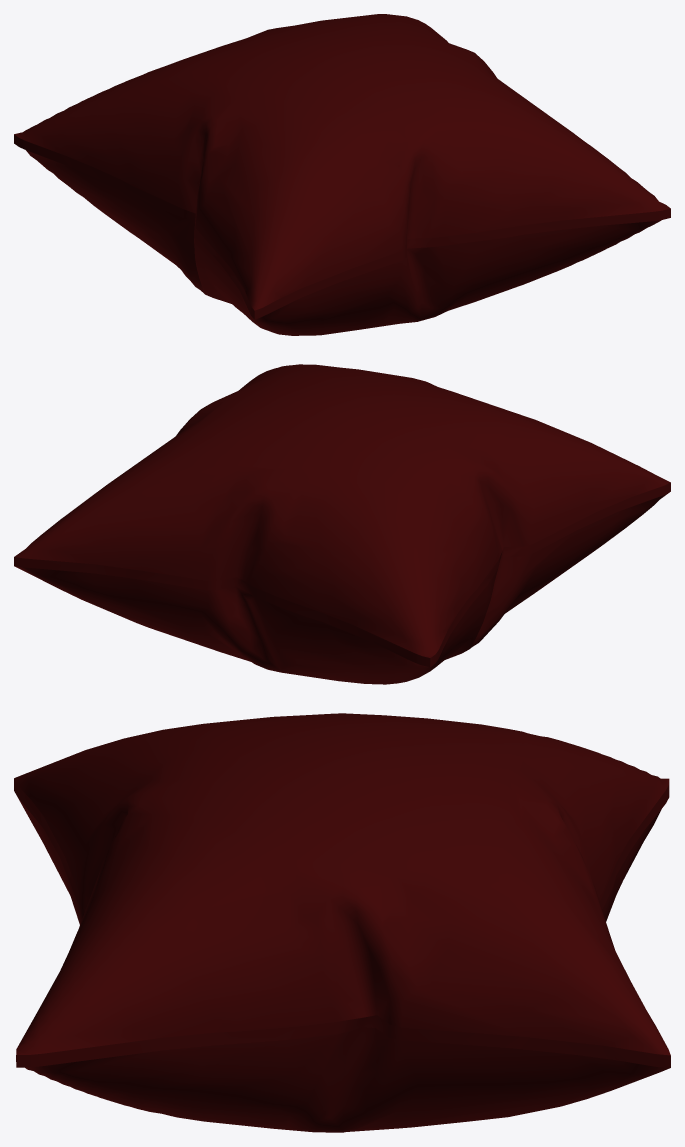
File: Pillow.glb
The picture shows the model from 3 angles, top to bottom: view 1: azimuth 30°, elevation 25°; view 2: azimuth 150°, elevation 25°; view 3: azimuth 270°, elevation 25°; orthographic projection. The views are drawn at different scales.
Parts seen in each view (by area): view 1: Pillow; view 2: Pillow; view 3: Pillow.
Part boxes in pixels (x1=…): Pillow: x1=14, y1=14, x2=670, y2=335; Pillow: x1=14, y1=364, x2=670, y2=684; Pillow: x1=14, y1=713, x2=670, y2=1132.
Size of the model in its own units: 1.18 by 0.6521 by 1.18.
